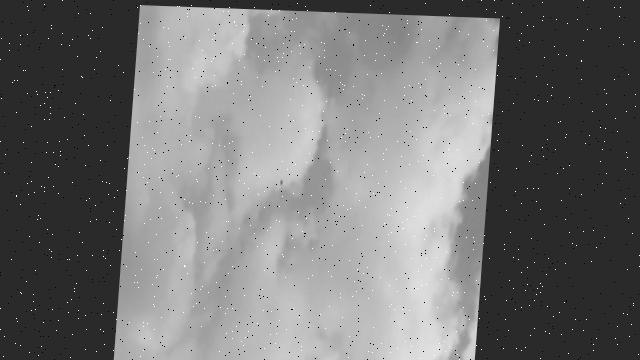drone: (281, 174, 291, 185)
